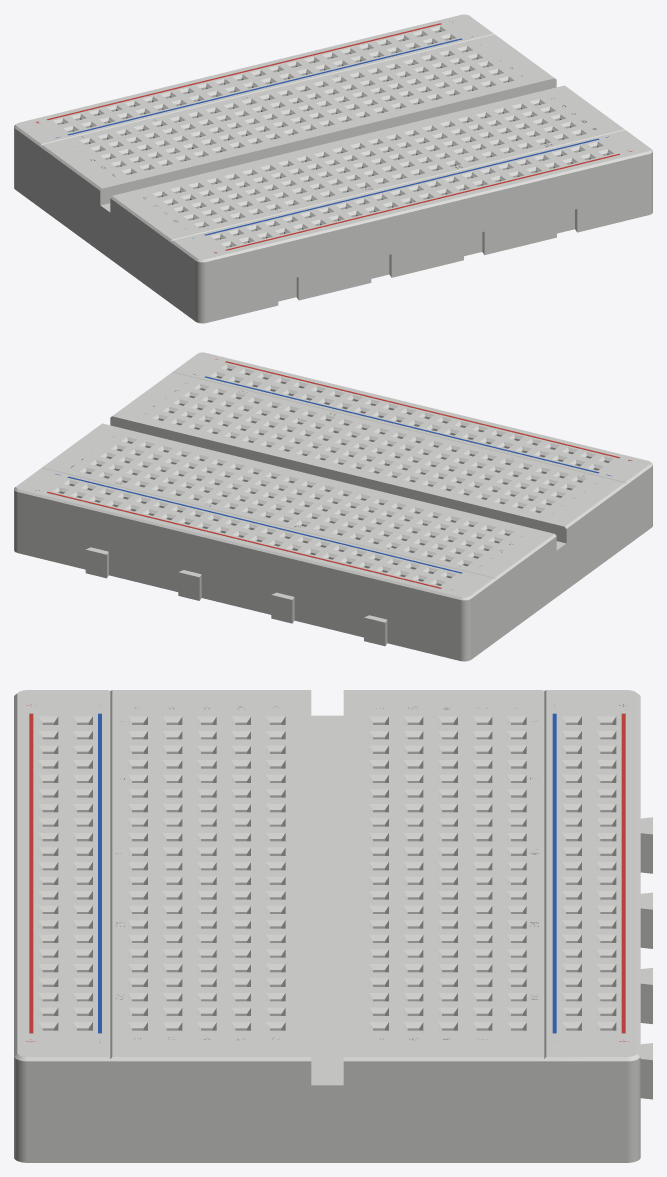
File: breadboard.glb
The picture shows the model from 3 angles, top to bottom: view 1: azimuth 30°, elevation 25°; view 2: azimuth 150°, elevation 25°; view 3: azimuth 270°, elevation 25°; orthographic projection. The views are drawn at different scales.
Parts seen in each view (by area): view 1: breadboard; view 2: breadboard; view 3: breadboard.
Boxes of the visible parts, bbox=[...] form: breadboard: bbox=[14, 14, 652, 323]; breadboard: bbox=[14, 352, 652, 661]; breadboard: bbox=[14, 690, 652, 1162].
Bounding box in the file's own units: 64.52 × 8.52 × 47.12.
